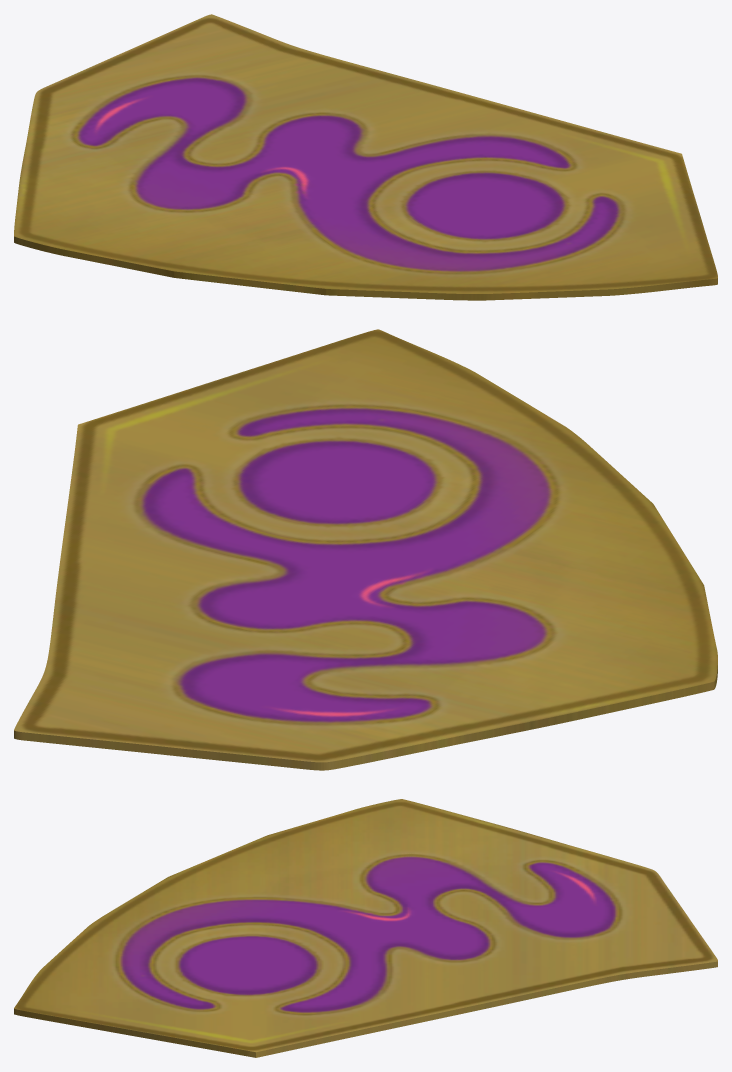
3 renders of one model, top to bottom at view 1: azimuth 30°, elevation 25°; view 2: azimuth 150°, elevation 25°; view 3: azimuth 270°, elevation 25°, orthographic. The views are drawn at different scales.
Parts seen in each view (by area): view 1: path1587; view 2: path1587; view 3: path1587.
Part boxes in pixels (x1,y1,x2,y2): path1587: (14, 14, 717, 300); path1587: (14, 329, 717, 770); path1587: (14, 799, 717, 1057).
Size of the model in its own units: 95.37 by 1 by 112.
Materials: 1 (1 with a texture image).
